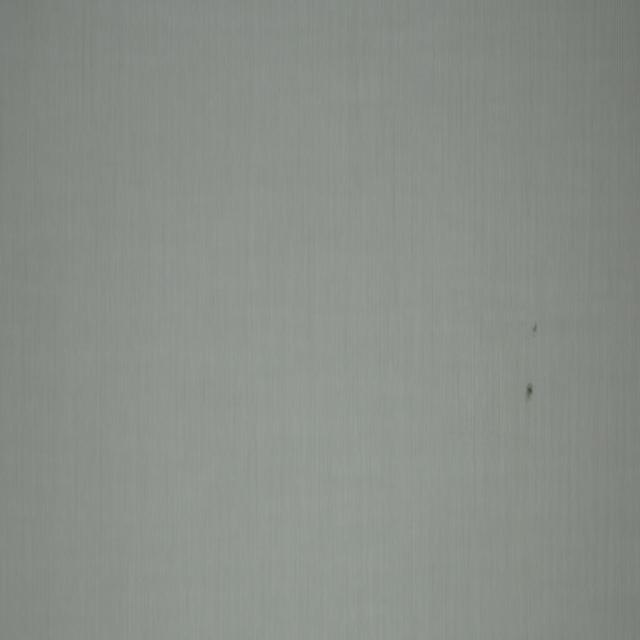dirty: (526, 381, 532, 404), (530, 322, 536, 336)
